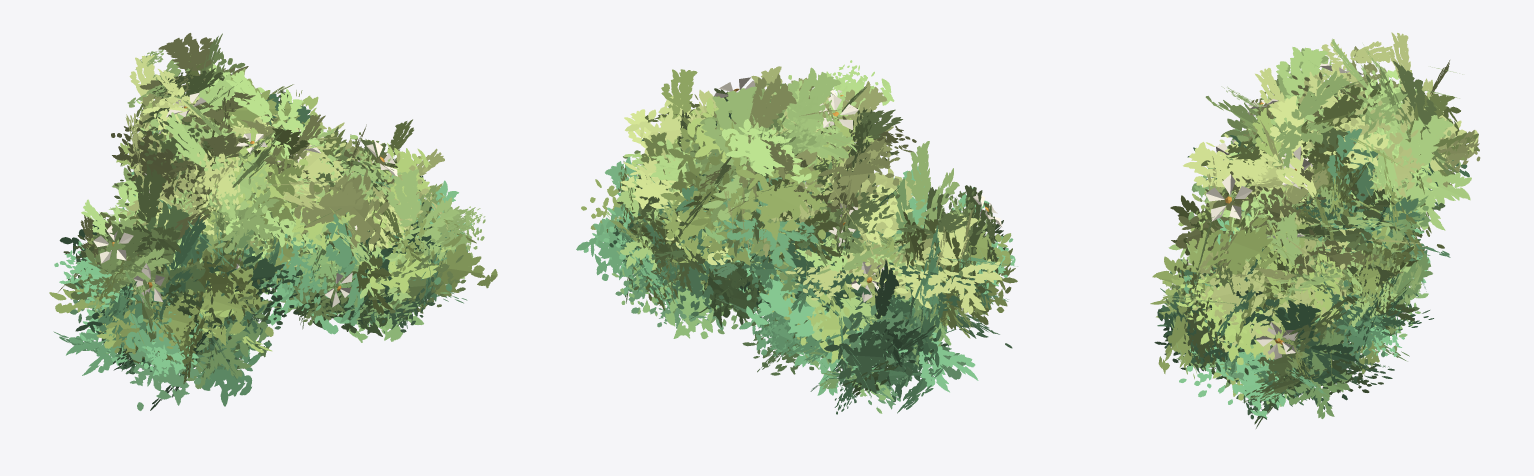
The model's file is Bush_02_Round_Flower_White.glb.
The picture shows the model from 3 angles, left to right: view 1: azimuth 30°, elevation 25°; view 2: azimuth 150°, elevation 25°; view 3: azimuth 270°, elevation 25°; orthographic projection. The views are drawn at different scales.
Parts seen in each view (by area): view 1: Bush_02_Round_Flower_White; view 2: Bush_02_Round_Flower_White; view 3: Bush_02_Round_Flower_White.
Part boxes in pixels (box(x1,y1,x2,y2)): Bush_02_Round_Flower_White: box(49, 33, 497, 410); Bush_02_Round_Flower_White: box(576, 60, 1017, 414); Bush_02_Round_Flower_White: box(1150, 32, 1480, 428).
Bounding box in the file's own units: 2.32 × 1.75 × 1.67.
8 materials, 6 textured.
